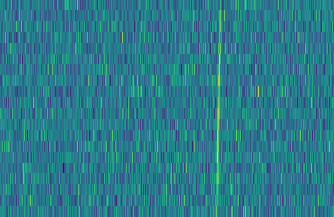signal: (212, 0, 225, 217)
